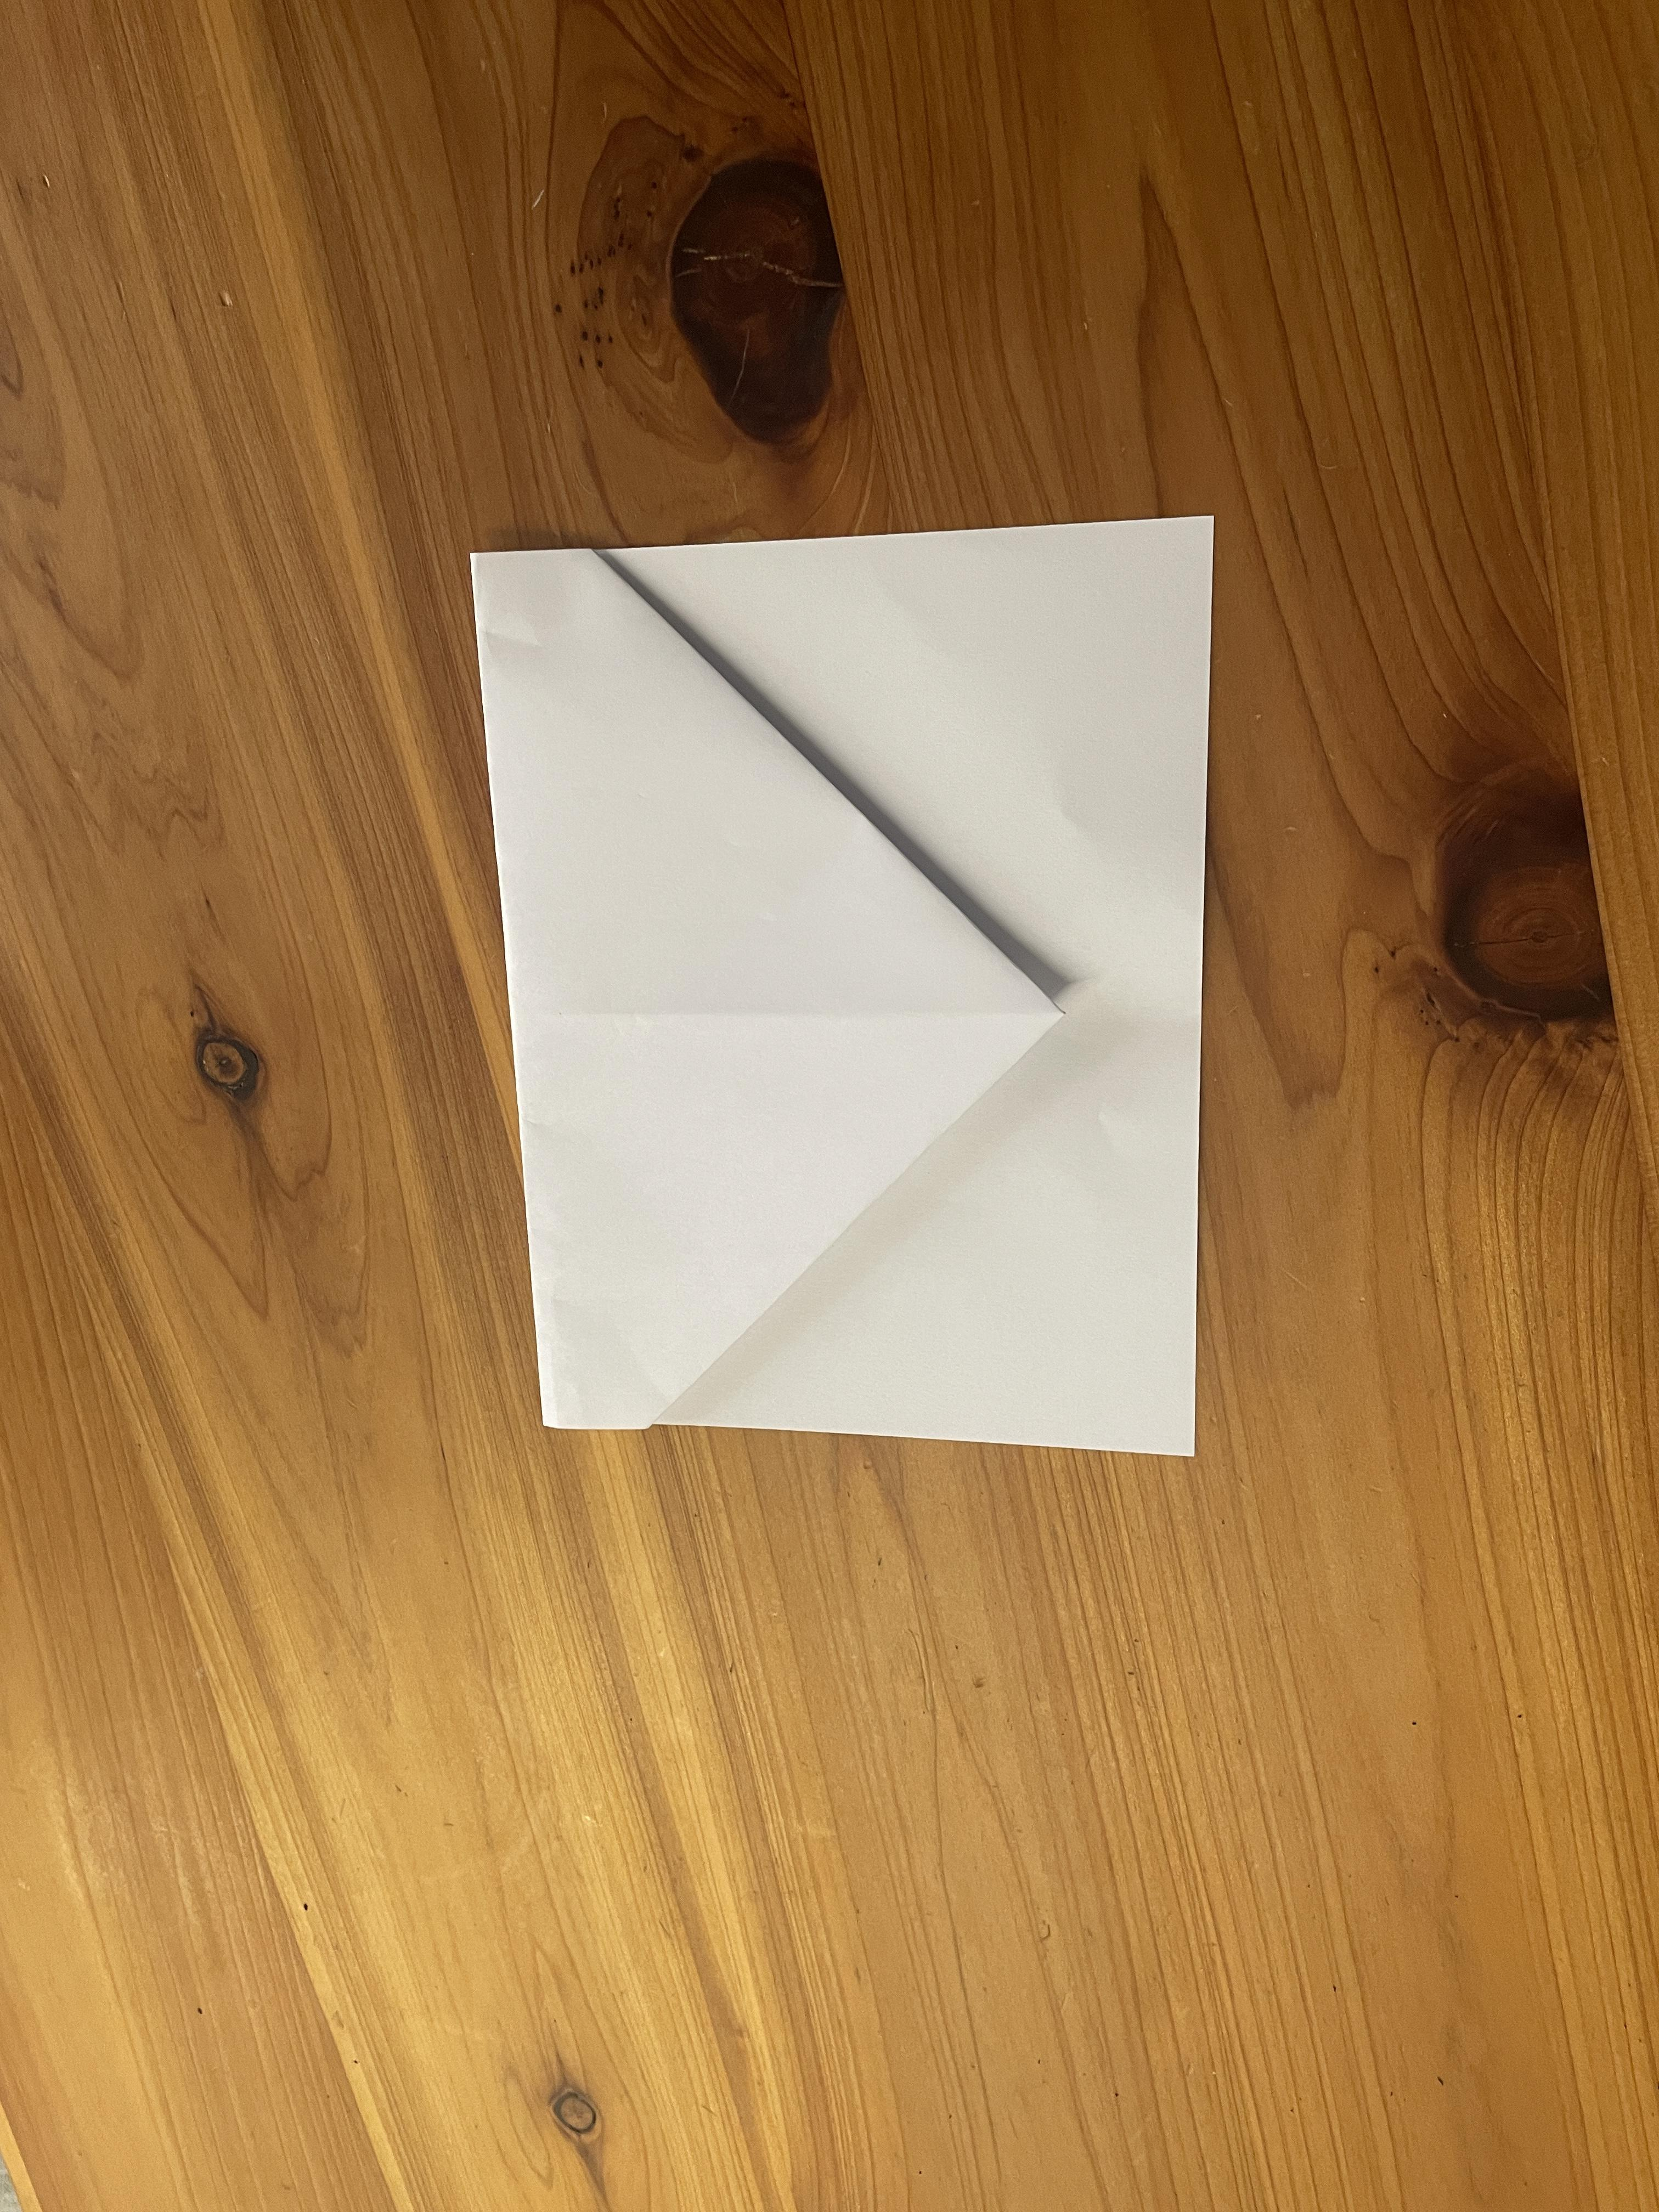shape_1: (357, 402, 1359, 1599)
